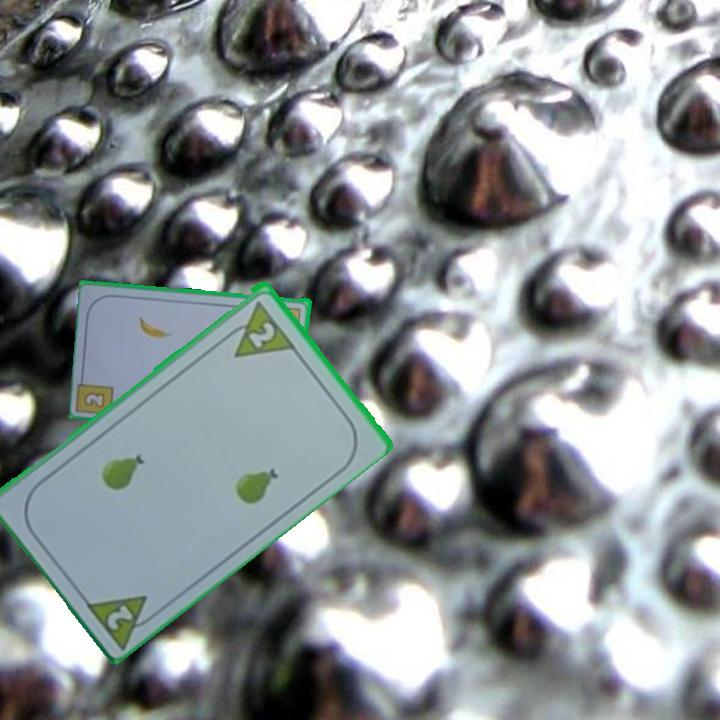2b: (83, 390, 106, 408)
2p: (244, 317, 279, 351), (103, 600, 136, 633)
